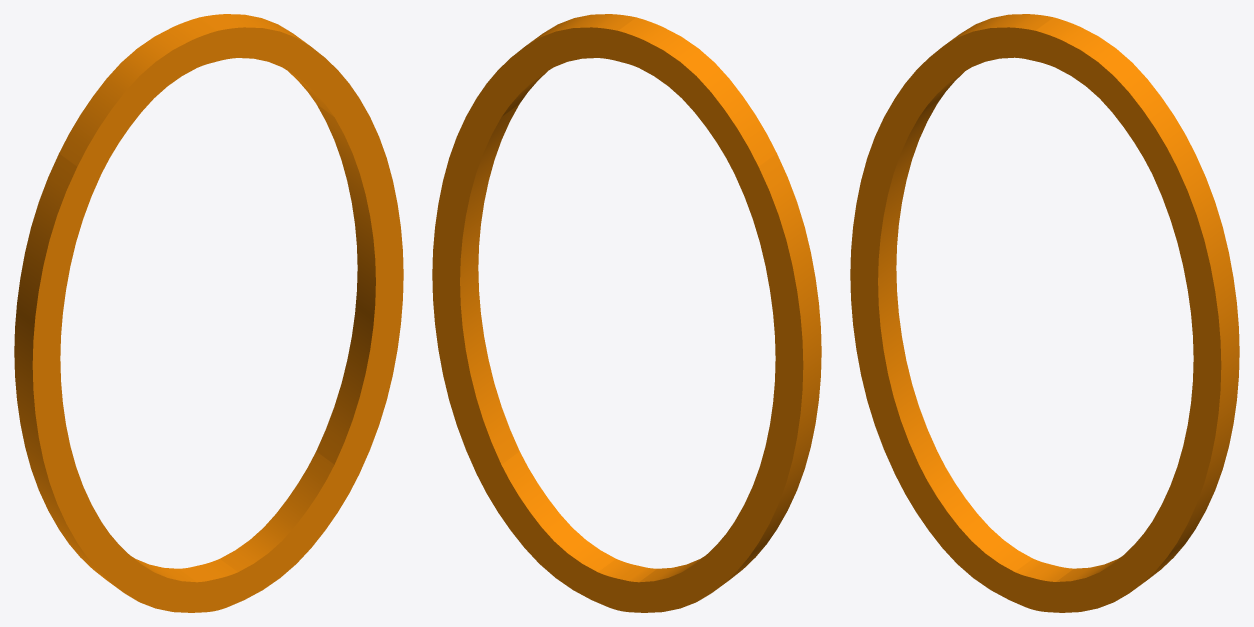
3 views of the same model, side by side, from view 1: azimuth 30°, elevation 25°; view 2: azimuth 150°, elevation 25°; view 3: azimuth 330°, elevation 25° (orthographic).
Parts seen in each view (by area): view 1: 0; view 2: 0; view 3: 0.
Boxes of the visible parts, x1=… form: 0: x1=14, y1=14, x2=403, y2=612; 0: x1=432, y1=14, x2=821, y2=612; 0: x1=850, y1=14, x2=1239, y2=612.
Size of the model in its own units: 58.31 by 87.06 by 5.
